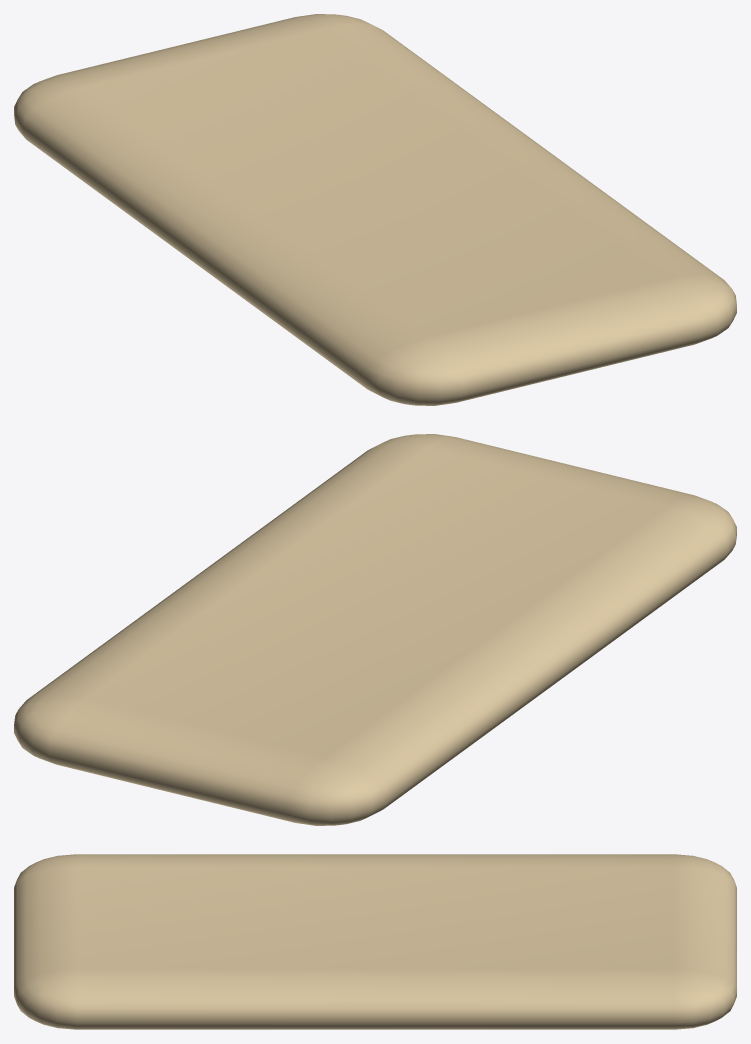
File: path-tile.glb
3 renders of one model, top to bottom at view 1: azimuth 30°, elevation 25°; view 2: azimuth 150°, elevation 25°; view 3: azimuth 270°, elevation 25°, orthographic. The views are drawn at different scales.
Parts seen in each view (by area): view 1: path-tile; view 2: path-tile; view 3: path-tile.
Part boxes in pixels (<box>): path-tile: <box>14,14,736,405</box>; path-tile: <box>14,434,736,825</box>; path-tile: <box>14,854,736,1029</box>.
Bounding box in the file's own units: 0.7 × 0.1 × 1.38.
